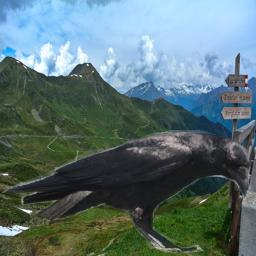Crow: (2, 130, 251, 253)
